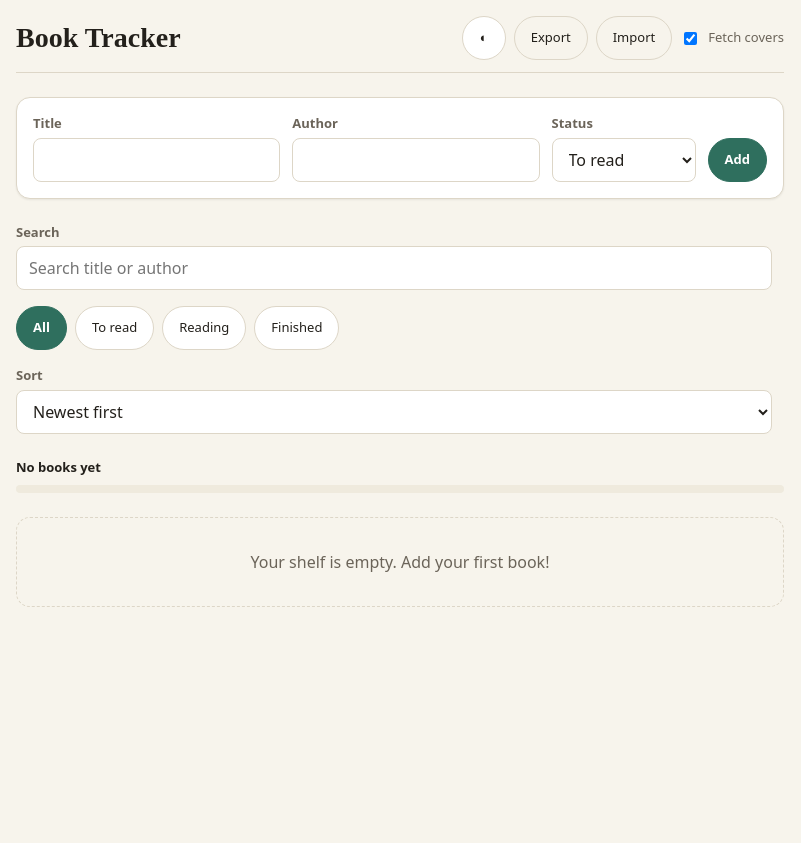
Test: App › adds the book and keeps the placeholder when the cover lookup fails
The width and height of the screenshot is (801, 843).
Type "Aadujeevitham" into the field labelled "Title" at (157, 160), box [33,138,280,182]
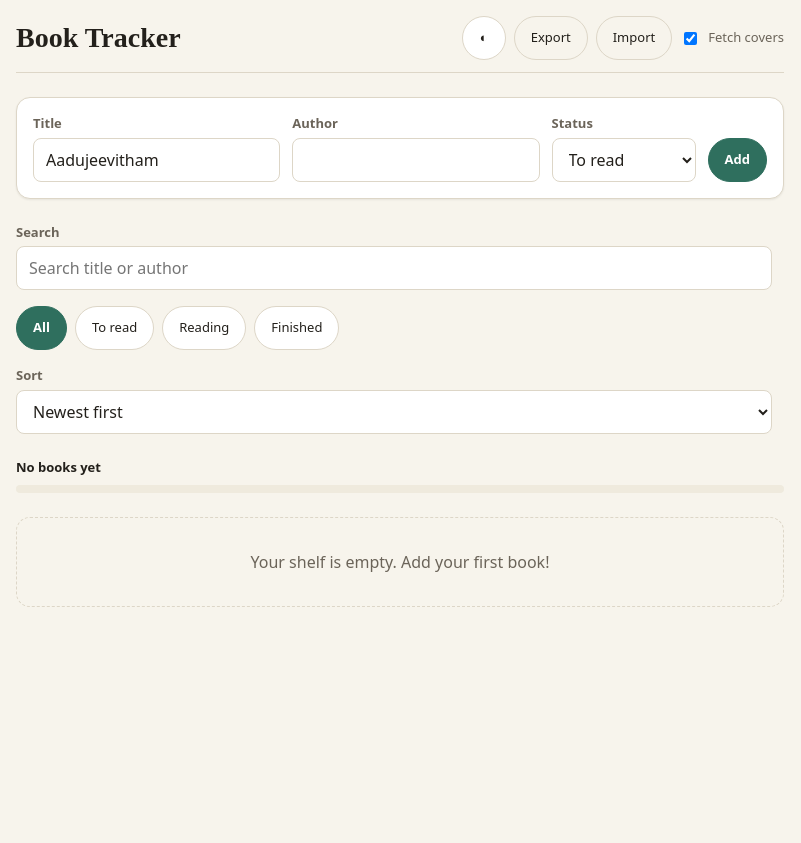
Type "Benyamin" into the field labelled "Author" at (416, 160), box [292,138,540,182]
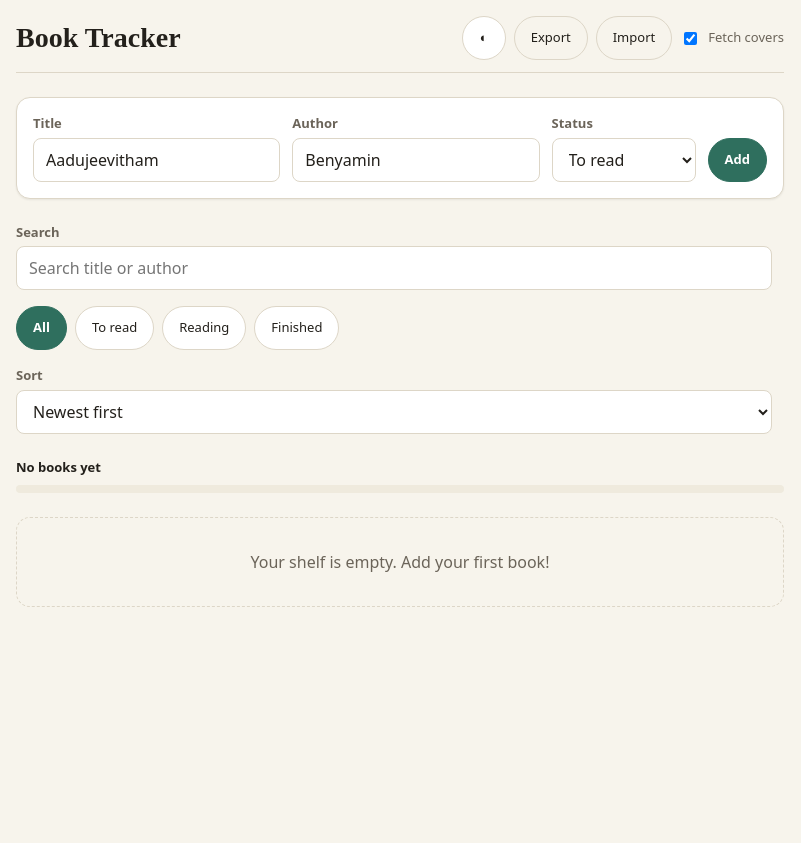
Click the button "Add" at (737, 160), box [708,138,767,182]
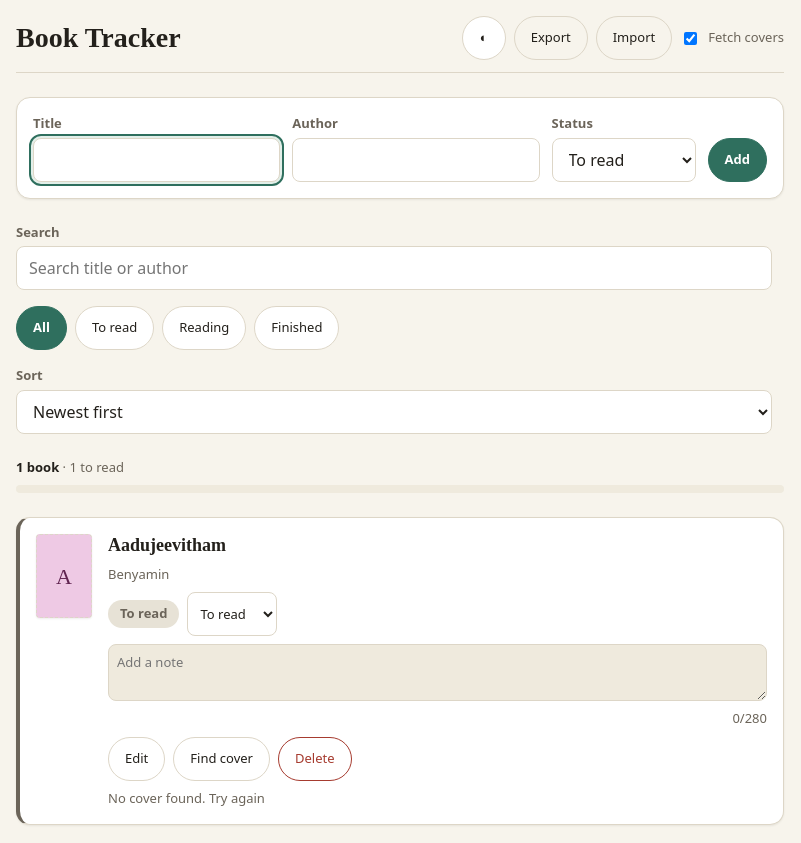
Expected: the number of list items is 1, [16,517,784,825]
Expected: the heading "Aadujeevitham" is shown, [108,535,226,555]
Expected: the element with class "book-cover--placeholder" is shown, [36,534,92,618]
